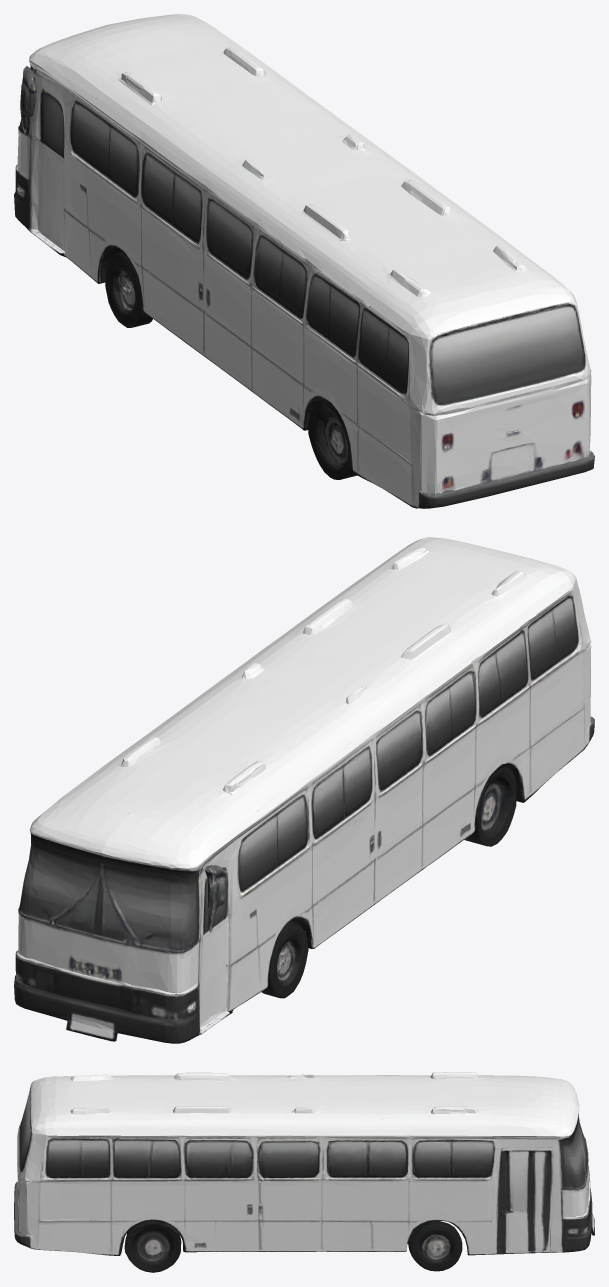
File: daewoo_bf105_ai_generated.glb
The picture shows the model from 3 angles, top to bottom: view 1: azimuth 30°, elevation 25°; view 2: azimuth 150°, elevation 25°; view 3: azimuth 270°, elevation 25°; orthographic projection. The views are drawn at different scales.
Visible parts, largest first — view 1: world; view 2: world; view 3: world.
Boxes of the visible parts, x1,y1,x2,y2 form: world: (14,14,594,508); world: (14,537,594,1043); world: (14,1072,594,1272).
Size of the model in its own units: 0.2524 by 0.294 by 0.9968.
Materials: 1 (1 with a texture image).
